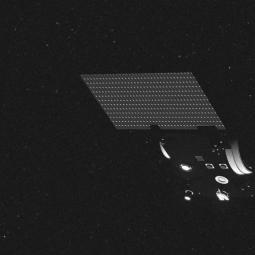proba_3_csc: (77, 63, 252, 205)
